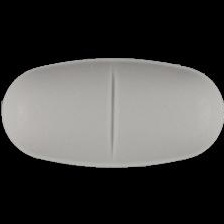53808-0808: (0, 0, 224, 224)
